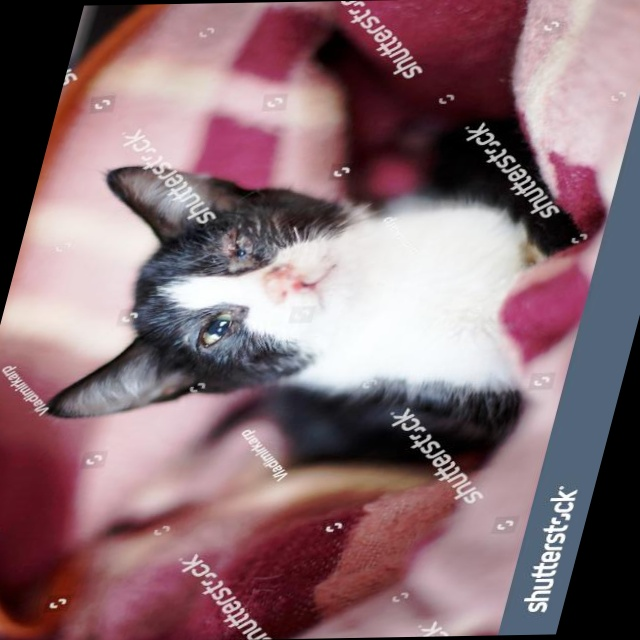eye_infection: (192, 308, 241, 348), (220, 230, 257, 258)
